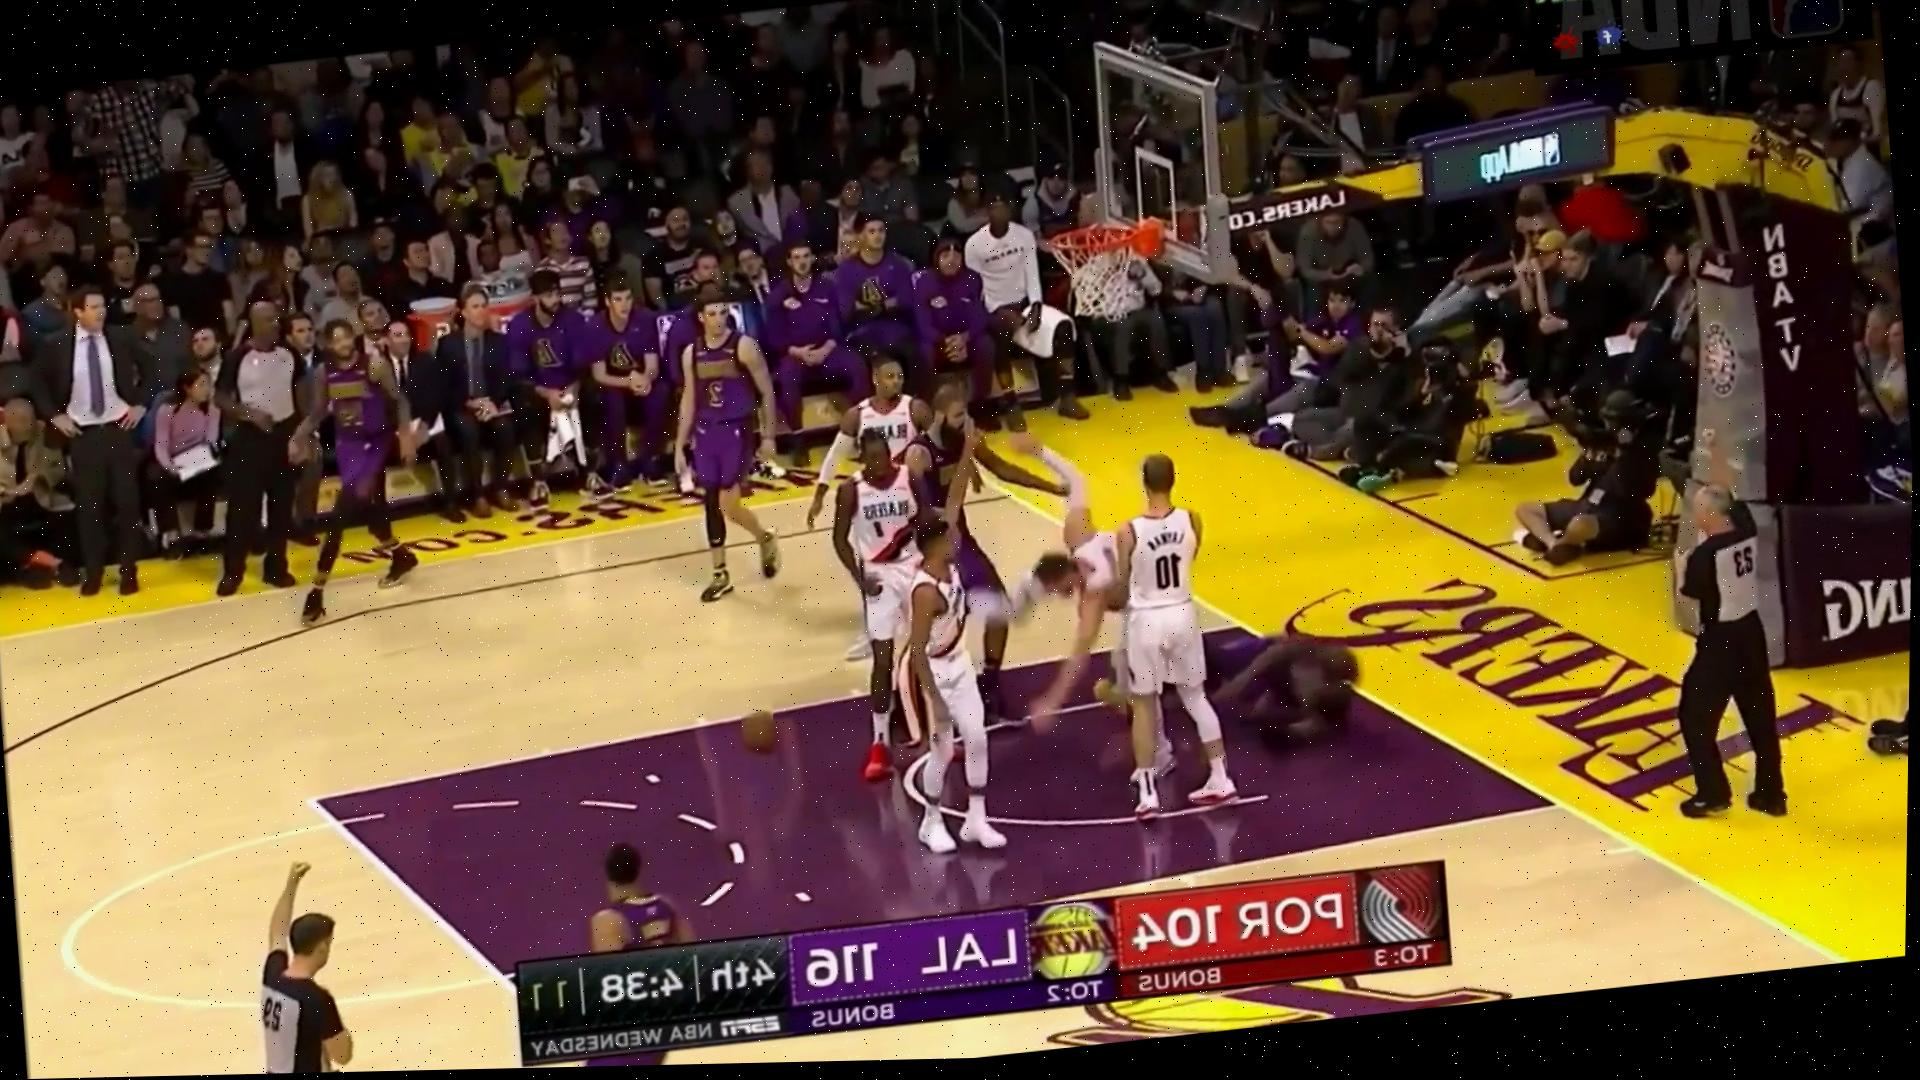no_foul: (901, 363, 1138, 752)
